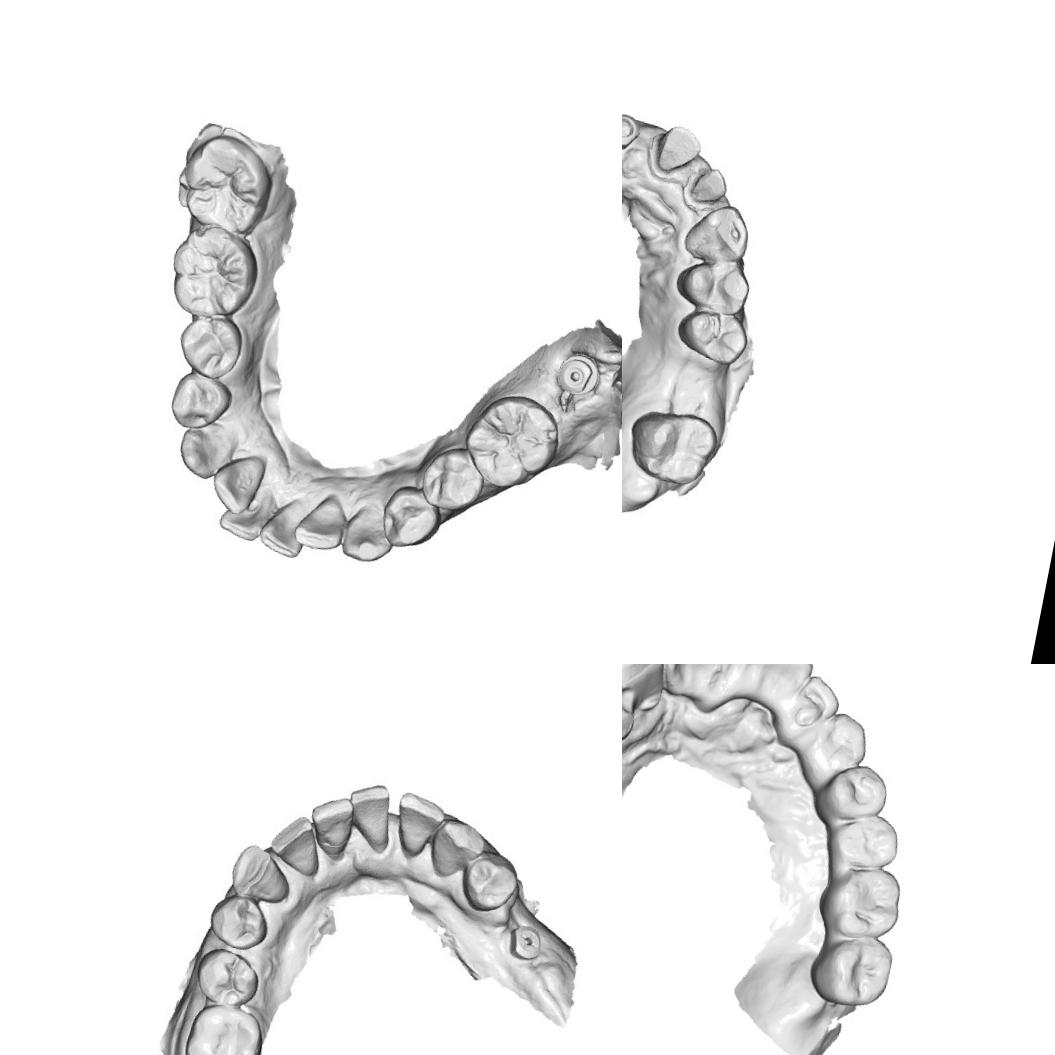canine: (676, 196, 757, 272), (799, 705, 872, 785), (224, 838, 297, 908), (423, 813, 490, 885), (335, 494, 399, 568), (172, 419, 242, 485), (622, 664, 671, 712)
crown: (652, 124, 702, 177), (684, 162, 728, 212)
implant: (550, 347, 609, 408), (622, 109, 641, 158)
implant_plus: (503, 918, 548, 965)
incisor: (262, 809, 328, 880), (338, 777, 400, 851), (782, 668, 844, 740), (387, 788, 450, 858), (204, 448, 266, 518), (746, 664, 818, 723), (213, 483, 278, 546), (302, 790, 358, 858), (255, 496, 312, 560), (296, 493, 350, 556), (690, 664, 765, 705), (652, 664, 707, 700)
molar: (172, 127, 282, 240), (457, 387, 563, 496), (160, 219, 262, 323), (622, 401, 722, 494), (811, 856, 910, 944), (805, 928, 898, 1014), (177, 997, 264, 1055)
premolar: (172, 310, 249, 384), (672, 251, 753, 321), (670, 303, 752, 370), (415, 441, 488, 516), (828, 805, 904, 876), (818, 756, 892, 826), (378, 480, 447, 554), (190, 944, 264, 1012), (454, 847, 524, 918), (204, 888, 274, 956), (162, 369, 230, 435), (622, 665, 639, 747)
